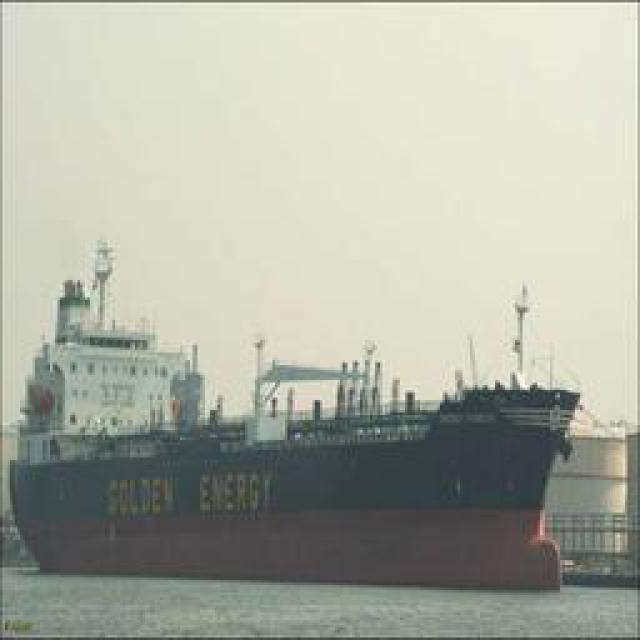Ship: (15, 227, 580, 587)
